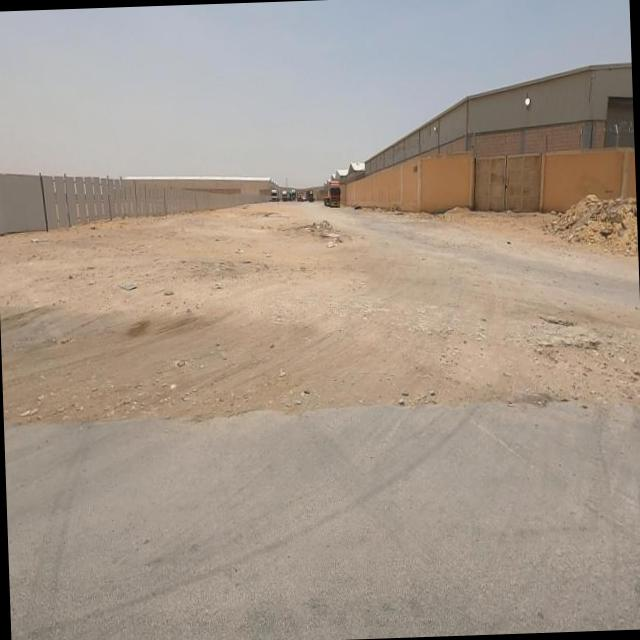debris: (290, 202, 367, 283)
